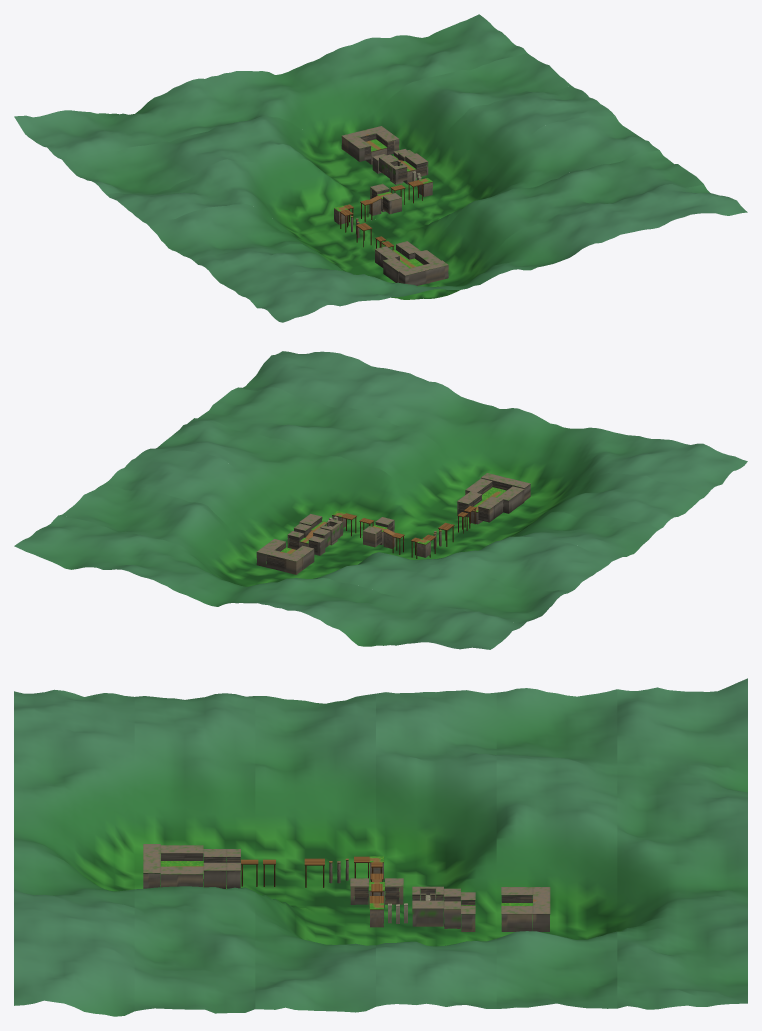
File: canopy_walk_terrain.glb
3 views of the same model, one above another, from view 1: azimuth 30°, elevation 25°; view 2: azimuth 150°, elevation 25°; view 3: azimuth 270°, elevation 25° (orthographic). The views are drawn at different scales.
Parts seen in each view (by area): view 1: backdrop_5, backdrop_3, backdrop_4, backdrop_2, backdrop_1, backdrop_0, terrain_G, terrain_A, terrain_H, terrain_E, terrain_B; view 2: backdrop_0, backdrop_1, backdrop_5, backdrop_2, backdrop_4, backdrop_3, terrain_G, terrain_A, terrain_H, terrain_E, terrain_B; view 3: backdrop_5, backdrop_0, backdrop_4, backdrop_2, backdrop_1, backdrop_3, terrain_G, terrain_A, terrain_H, terrain_E, terrain_B, terrain_C.
Part boxes in pixels (box(x1,y1,x2,y2)): backdrop_5: box(14, 14, 526, 161); backdrop_3: box(106, 85, 614, 235); backdrop_4: box(62, 53, 570, 194); backdrop_2: box(150, 116, 659, 267); backdrop_1: box(194, 150, 703, 298); backdrop_0: box(239, 184, 747, 322); terrain_G: box(372, 149, 432, 196); terrain_A: box(383, 250, 448, 285); terrain_H: box(341, 126, 399, 164); terrain_E: box(334, 183, 401, 225); terrain_B: box(375, 241, 420, 267); backdrop_0: box(240, 351, 747, 501); backdrop_1: box(194, 387, 703, 535); backdrop_5: box(14, 514, 526, 649); backdrop_2: box(152, 418, 659, 559); backdrop_4: box(62, 483, 570, 623); backdrop_3: box(106, 448, 614, 591); terrain_G: box(287, 511, 345, 555); terrain_A: box(465, 473, 530, 513); terrain_H: box(256, 539, 314, 574); terrain_E: box(362, 517, 430, 558); terrain_B: box(457, 491, 503, 524); backdrop_5: box(617, 678, 747, 1009); backdrop_0: box(14, 689, 134, 1016); backdrop_4: box(496, 688, 617, 1008); backdrop_2: box(255, 693, 375, 1012); backdrop_1: box(134, 693, 255, 1013); backdrop_3: box(376, 690, 496, 1008); terrain_G: box(369, 886, 475, 931); terrain_A: box(143, 844, 203, 888); terrain_H: box(501, 887, 550, 931); terrain_E: box(350, 856, 403, 908); terrain_B: box(203, 849, 240, 888); terrain_C: box(241, 858, 324, 887).
Bounding box in the file's own units: 511 × 62.28 × 511.
